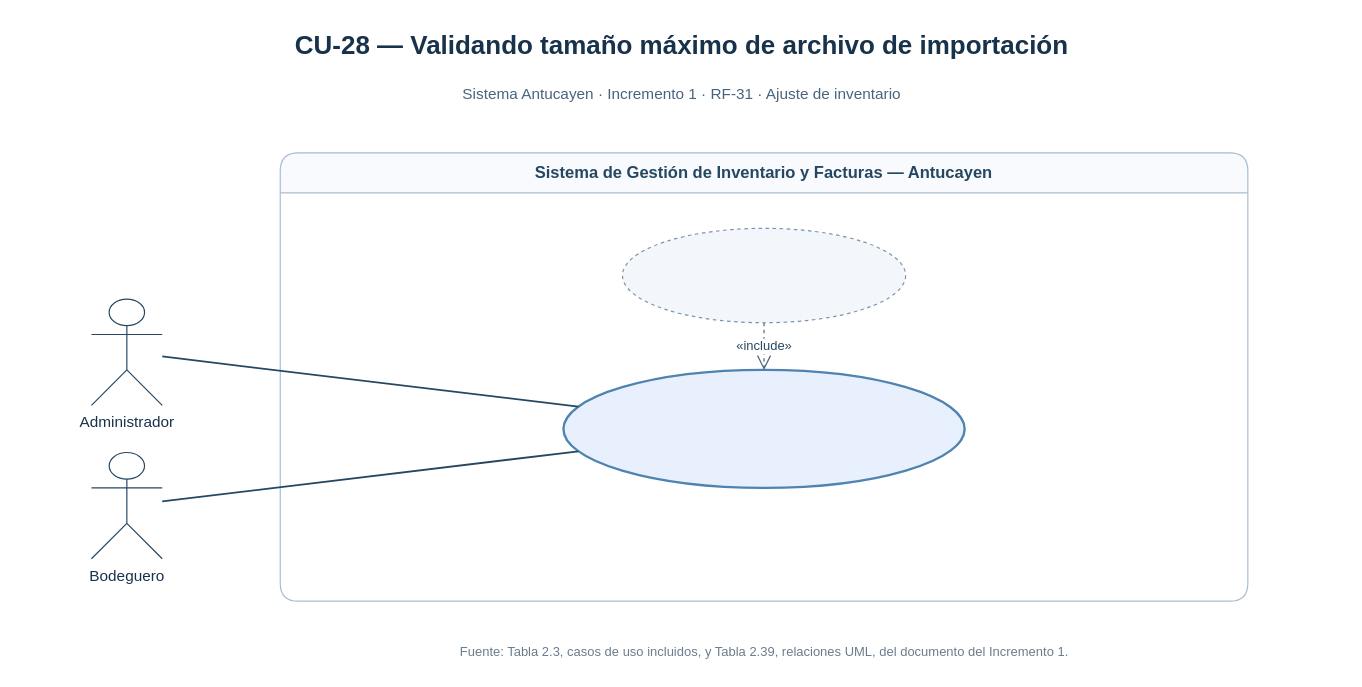
Image size: 1362x687. Some labels were removed from this diagram. Each missing label, with the centre of its shape:
CU-27 Importando archivo Excel de ajuste de inventario: point 763,275
CU-28 Validando tamaño máximo de archivo de importación: point 763,428
